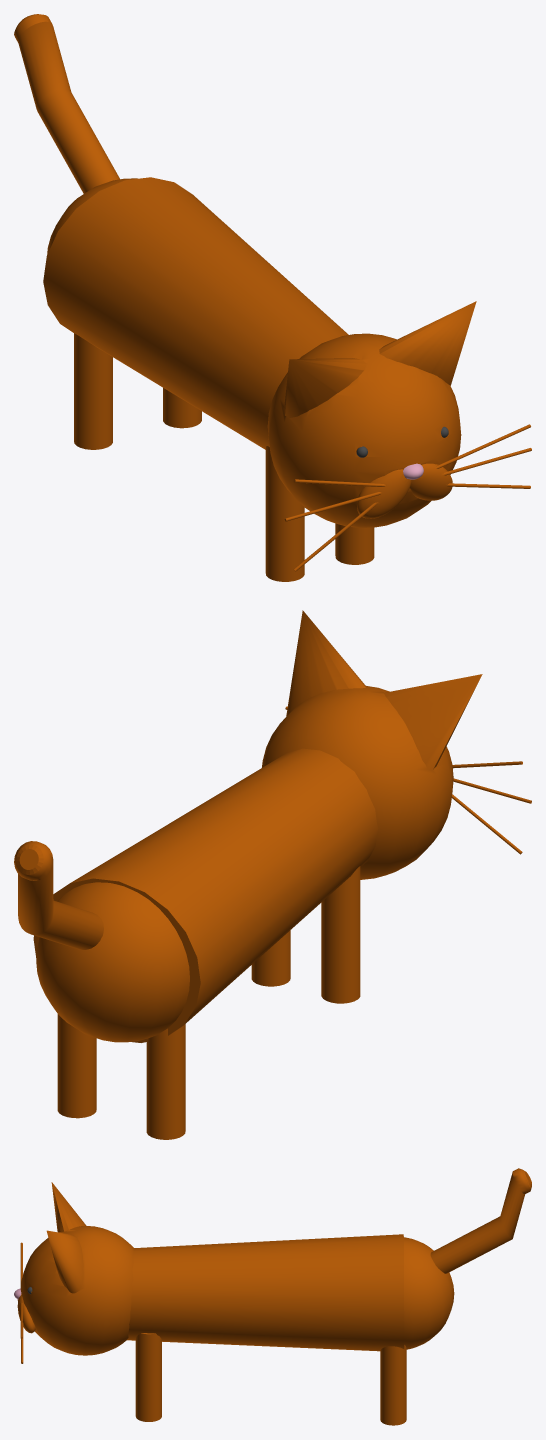
The model's file is Cat.fbx.
3 renders of one model, top to bottom at view 1: azimuth 30°, elevation 25°; view 2: azimuth 150°, elevation 25°; view 3: azimuth 270°, elevation 25°, orthographic. The views are drawn at different scales.
Visible parts, largest first — view 1: pCylinder14; view 2: pCylinder14; view 3: pCylinder14.
Boxes of the visible parts, bbox=[...] form: pCylinder14: bbox=[14, 14, 531, 581]; pCylinder14: bbox=[14, 610, 531, 1139]; pCylinder14: bbox=[14, 1168, 531, 1425].
Size of the model in its own units: 1.97 by 2.68 by 5.4.
